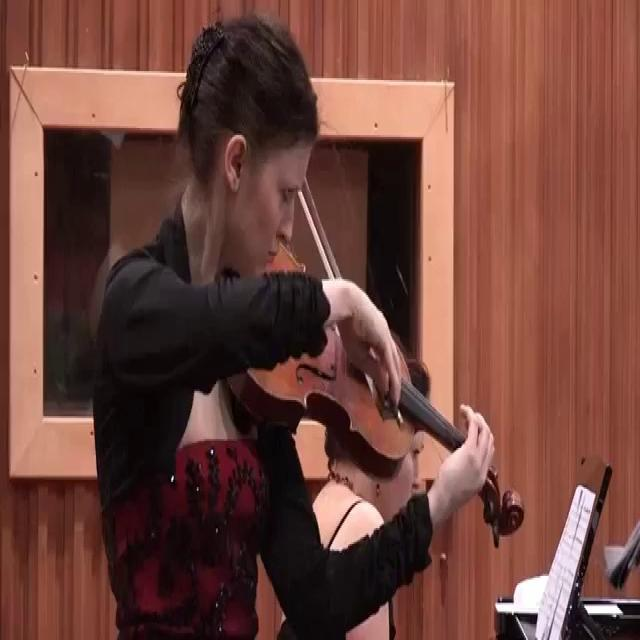Violin: (209, 232, 536, 550)
